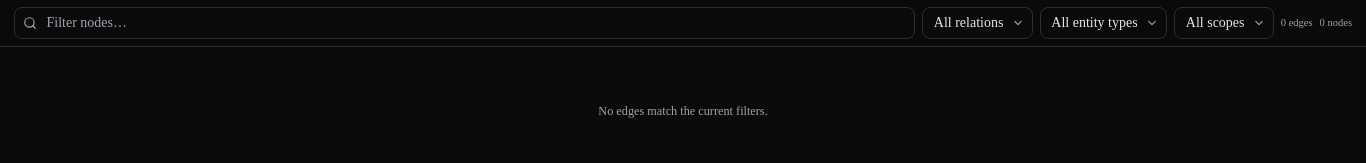
Test case: GraphTableView › shows clear filters button when filters are active
This screenshot has width=1366, height=163.
Expected: the text "Clear filters" is not shown
Select "depends on" in the dropdown named "Relation type filter" at (978, 23), box [922,7,1033,38]
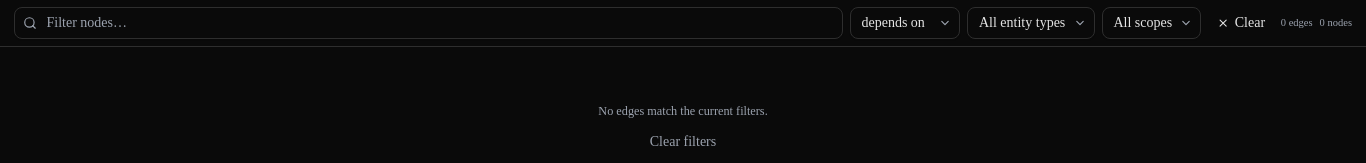
Expected: the button "Clear" is shown, [1208,9,1274,37]
